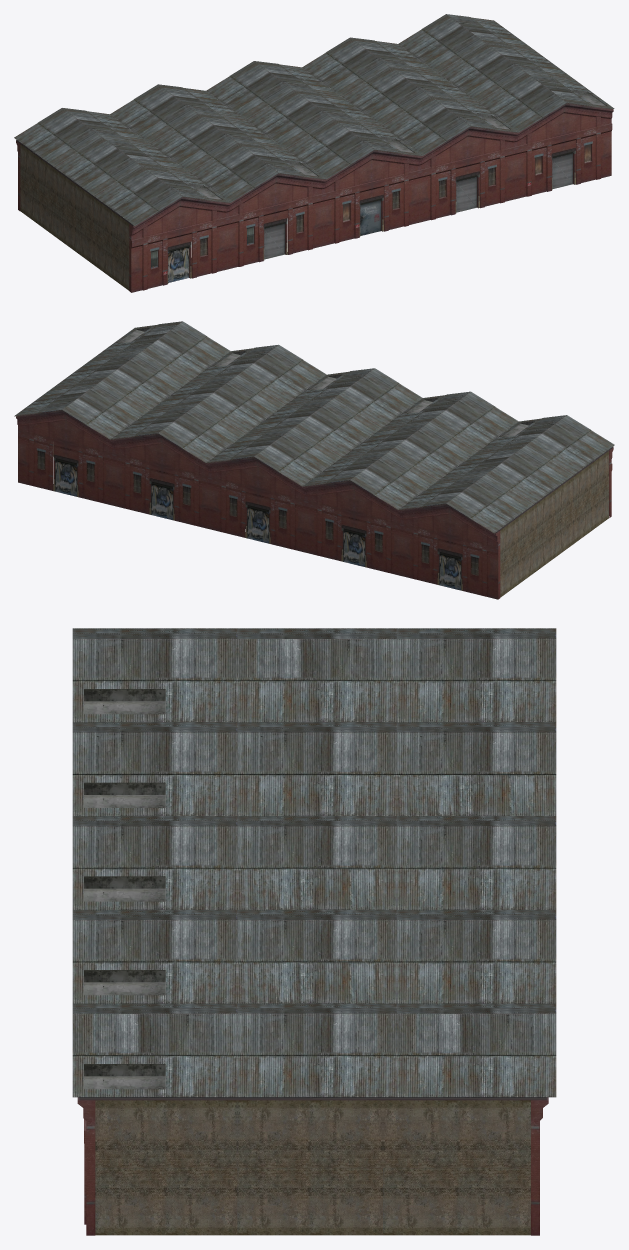
File: warehouses.glb
3 views of the same model, one above another, from view 1: azimuth 30°, elevation 25°; view 2: azimuth 150°, elevation 25°; view 3: azimuth 270°, elevation 25° (orthographic). The views are drawn at different scales.
Visible parts, largest first — view 1: mainer_2; view 2: mainer_2; view 3: mainer_2.
Part boxes in pixels (x1,y1,x2,y2): mainer_2: (14, 14, 614, 292); mainer_2: (14, 321, 614, 599); mainer_2: (72, 628, 556, 1235).
Size of the model in its own units: 247 by 42.94 by 108.
Materials: 1 (1 with a texture image).
